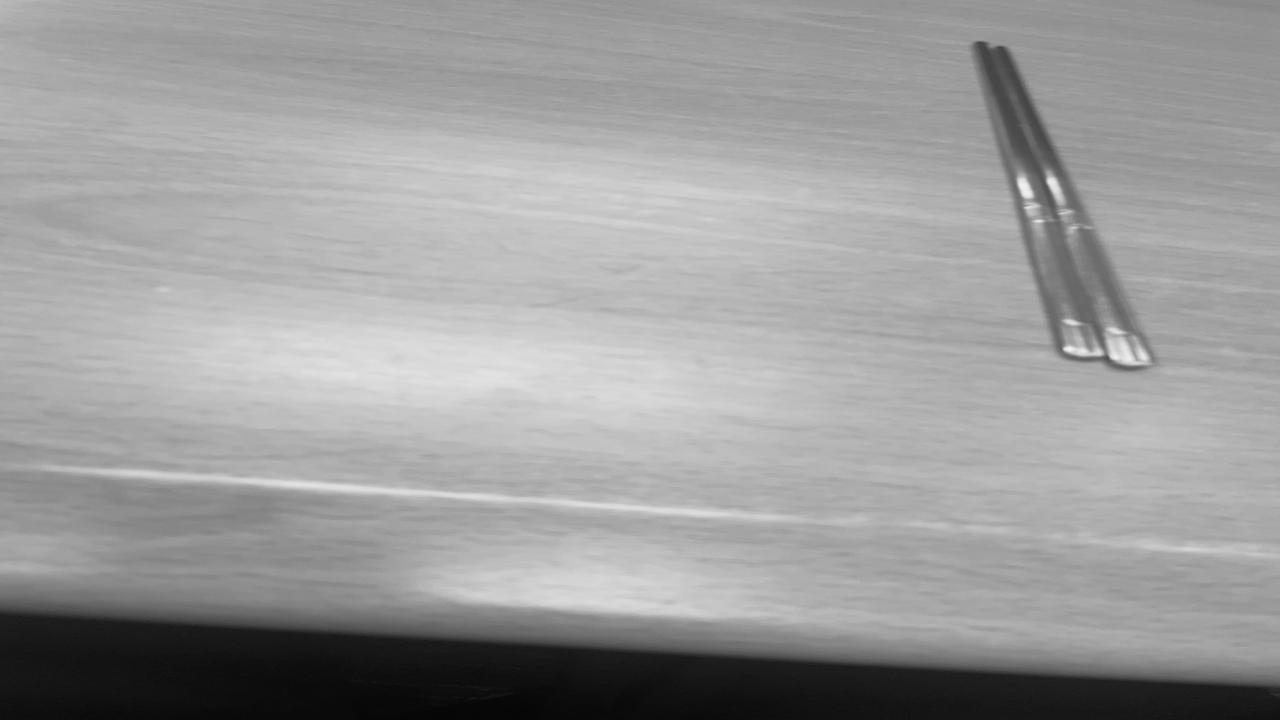chopstick: (980, 43, 1149, 363)
